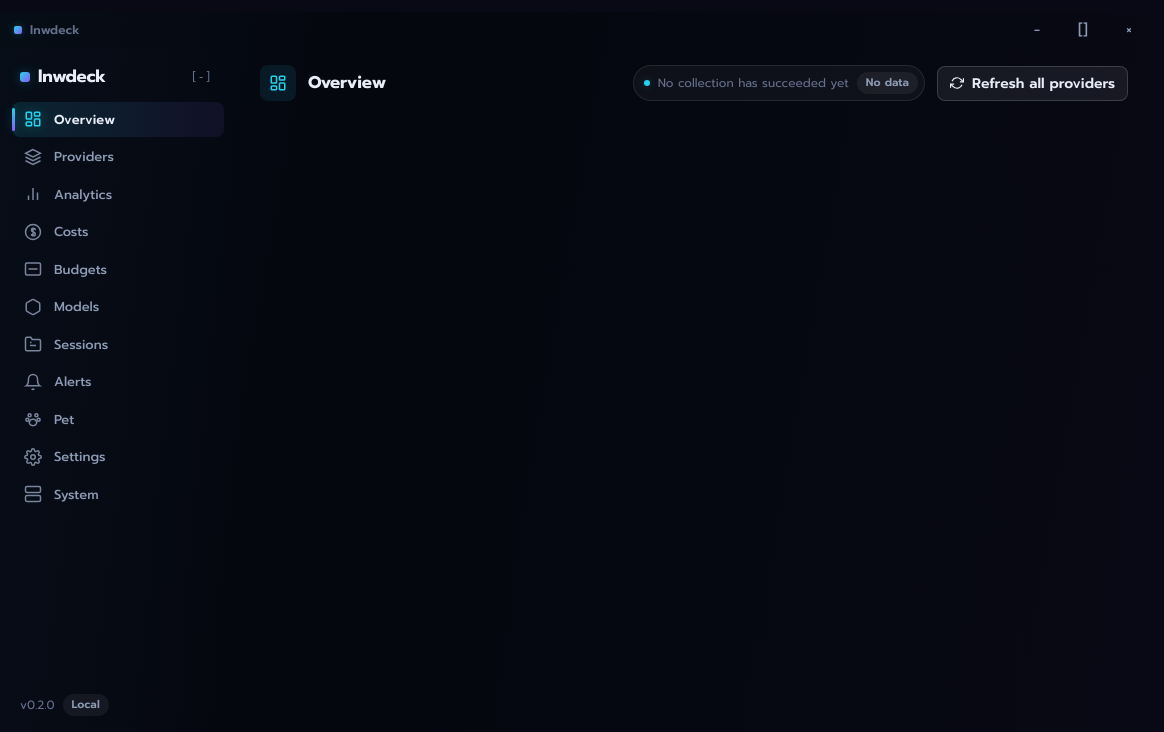
Test case: AppShell › surfaces a failed refresh instead of swallowing it
Click the button "Refresh all providers": (1032, 83) [937,66,1128,100]
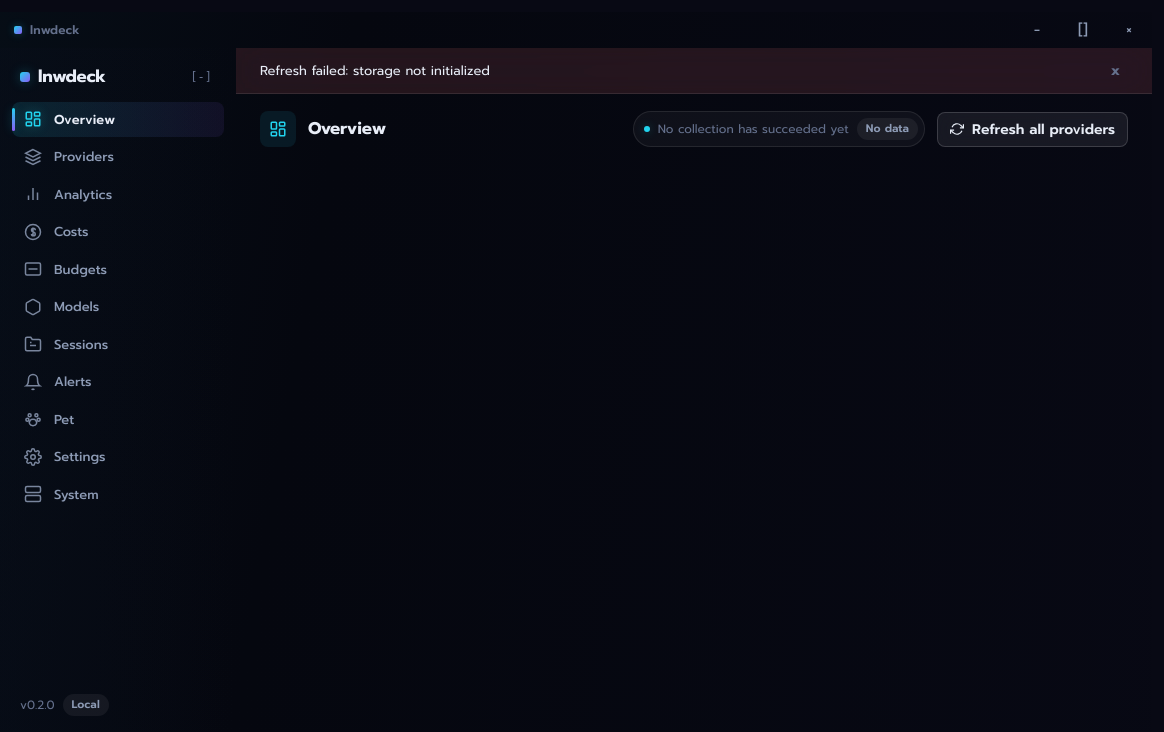
Expected: the button "Refresh all providers" is enabled, [937,112,1128,146]
Result: the text "Refresh failed: storage not initialized" is shown at [260,61,490,80]
